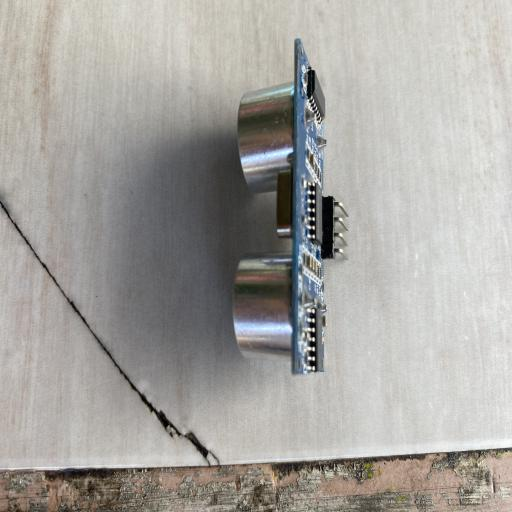Ultrasonic Sensor: (230, 37, 348, 377)
